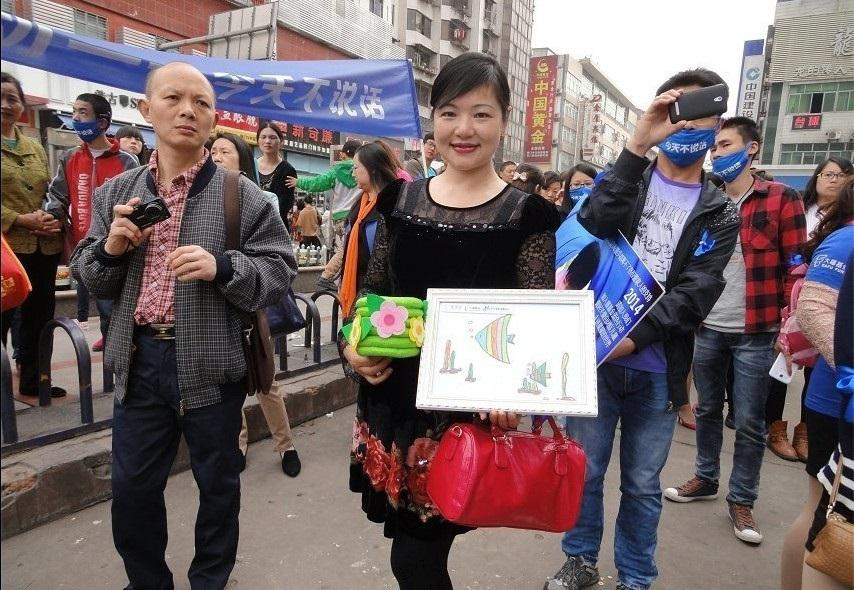NONE: (439, 98, 501, 165), (156, 85, 216, 150), (209, 144, 240, 181), (820, 168, 848, 202), (1, 88, 26, 126), (353, 160, 375, 192), (541, 183, 565, 209), (123, 135, 145, 154), (261, 133, 278, 151), (502, 167, 517, 187), (425, 140, 438, 159)
OK: (573, 174, 597, 205)
WRONG: (658, 90, 715, 165), (707, 132, 761, 186), (73, 105, 103, 142)
